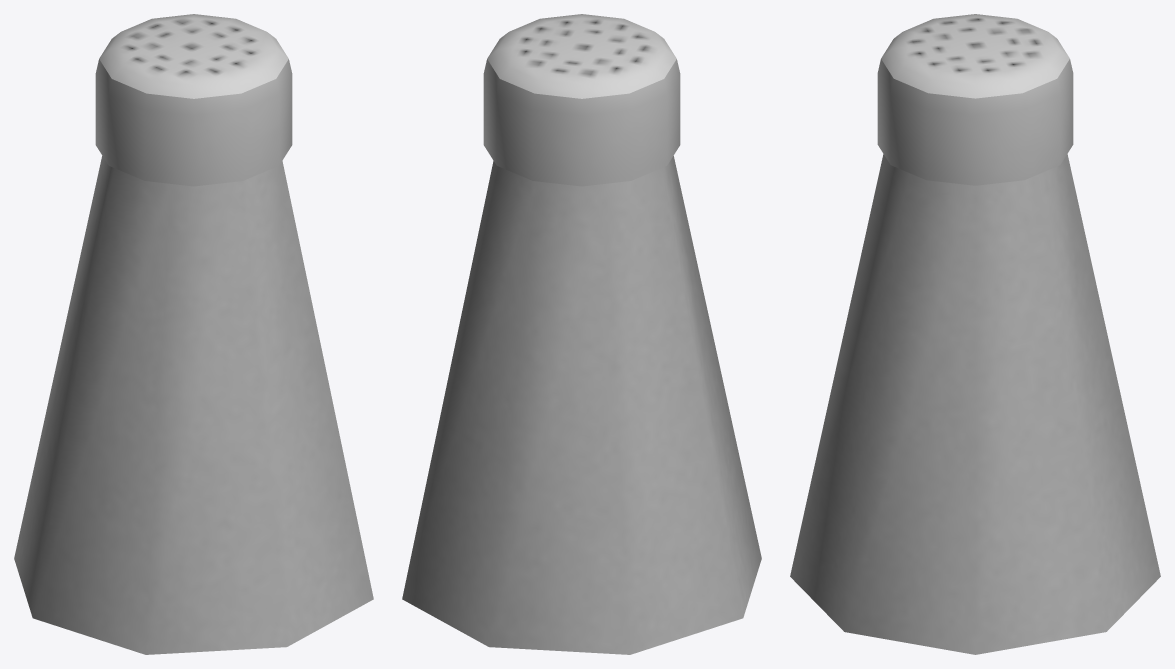
Rendered from SaltShaker.fbx.
The picture shows the model from 3 angles, left to right: view 1: azimuth 30°, elevation 25°; view 2: azimuth 150°, elevation 25°; view 3: azimuth 270°, elevation 25°; orthographic projection.
Visible parts, largest first — view 1: Salt shaker; view 2: Salt shaker; view 3: Salt shaker.
Boxes of the visible parts, <box> form: Salt shaker: <box>14,14,373,654</box>; Salt shaker: <box>402,14,761,654</box>; Salt shaker: <box>790,14,1160,654</box>.
Size of the model in its own units: 7 by 11.04 by 7.
